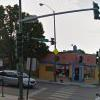Traffic light: (11, 25, 37, 72)
